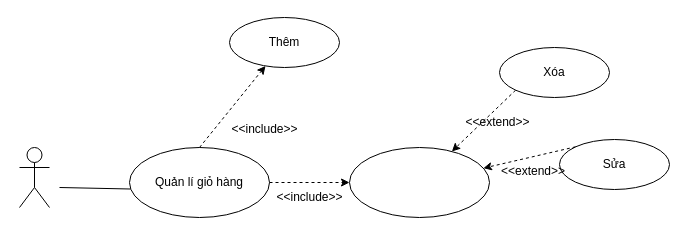
This 687x246 diagram has some shape labels left out. Each missing label, with the box of its shape:
Khách: (18, 146, 50, 208)
Xem Danh sách: (348, 146, 490, 218)
